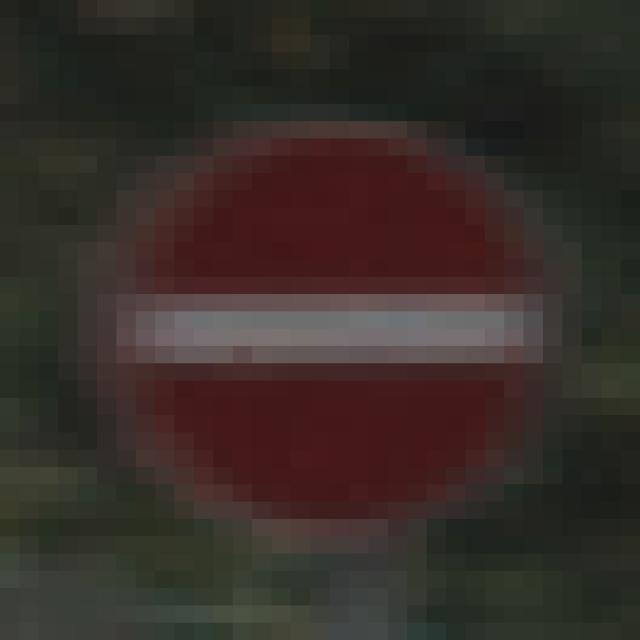No Entry: (98, 105, 525, 554)
